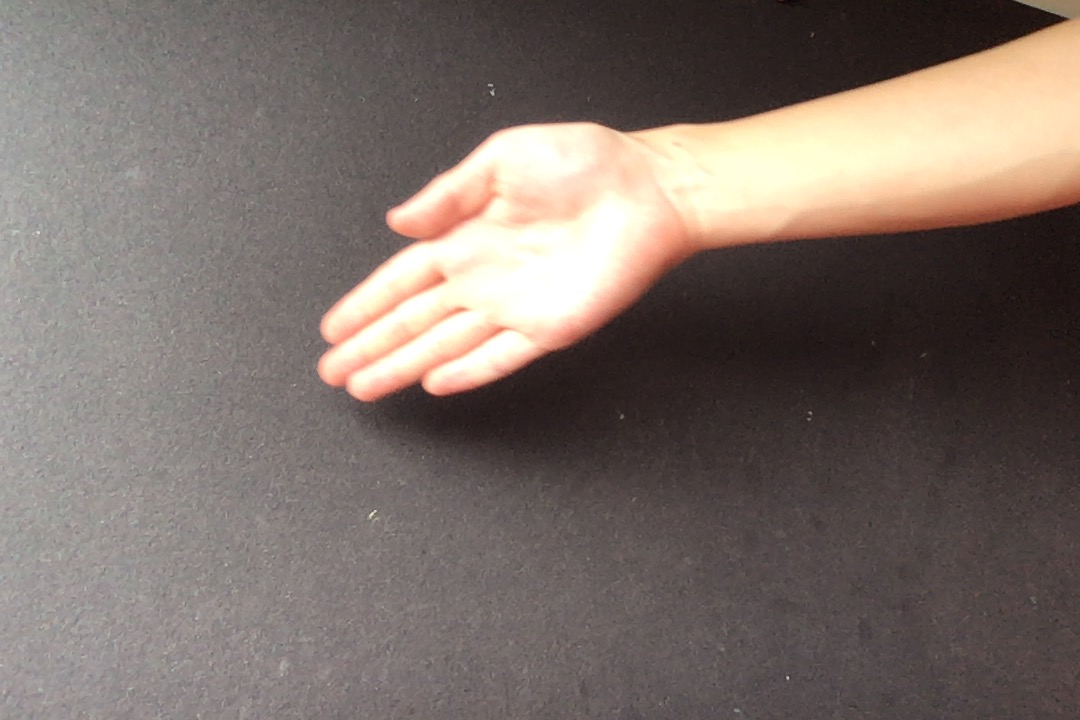palmhand: (307, 114, 690, 408)
